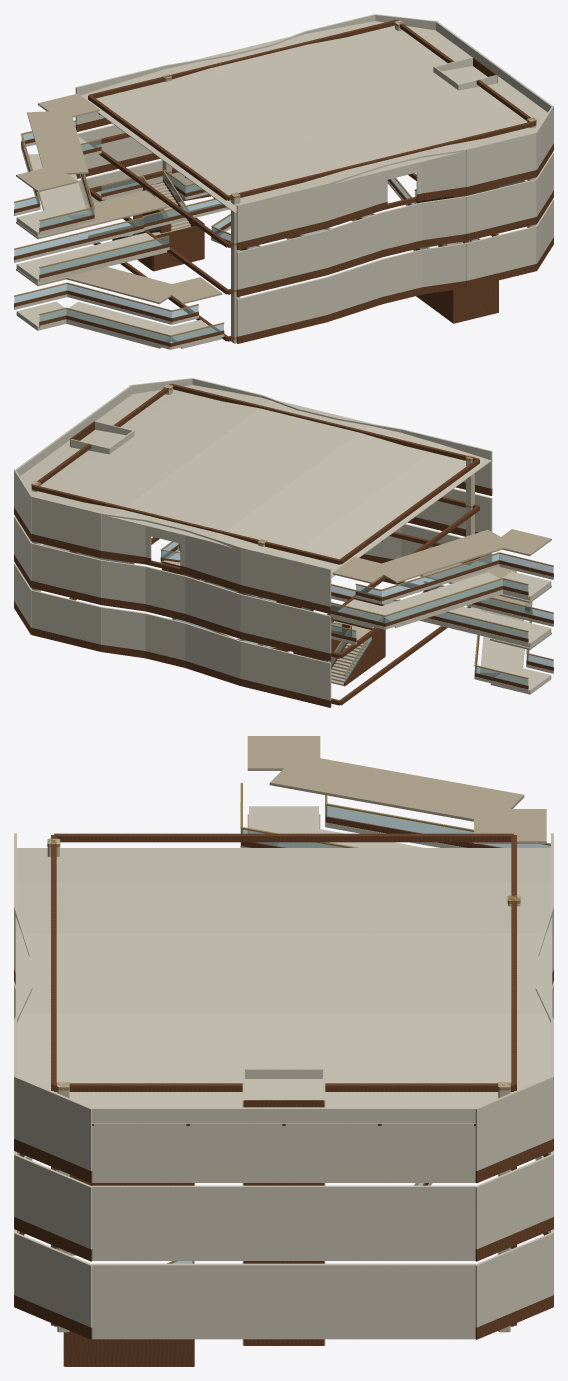
The model's file is AST-COM-003.glb.
3 views of the same model, one above another, from view 1: azimuth 30°, elevation 25°; view 2: azimuth 150°, elevation 25°; view 3: azimuth 270°, elevation 25° (orthographic). The views are drawn at different scales.
Visible parts, largest first — view 1: HC_TopCeiling_2, HC_TopCeiling_1, HC_TopCeiling_3, HC_TopCeiling_0, HC_ProfileWall_D16_1_0, HC_ProfileWall_D17_1_0, HC_ProfileWall_D15_1_0, HC_TopCeiling_4, HC_ArrivalCanopy_D17_1, HC_ProfileWall_D15_1_4, HC_ProfileWall_D16_1_4, HC_ProfileWall_D17_1_4 (+56 smaller); view 2: HC_TopCeiling_2, HC_TopCeiling_1, HC_TopCeiling_3, HC_TopCeiling_0, HC_ProfileWall_D15_-1_0, HC_ProfileWall_D16_-1_0, HC_ProfileWall_D17_-1_0, HC_TopCeiling_4, HC_ArrivalCanopy_D17_1, HC_ProfileWall_D17_-1_4, HC_ProfileWall_D15_-1_4, HC_ProfileWall_D16_-1_4 (+52 smaller); view 3: HC_TopCeiling_2, HC_TopCeiling_3, HC_RearWall_D15, HC_RearWall_D16, HC_RearWall_D17, HC_TopCeiling_1, HC_TopCeiling_0, HC_ArrivalCanopy_D17_1, HC_TopCeiling_4, HC_ProfileWall_D16_-1_5, HC_ProfileWall_D16_1_5, HC_ProfileWall_D15_-1_5 (+24 smaller).
Part boxes in pixels (x1=…): HC_TopCeiling_2: x1=196, y1=36, x2=456, y2=178; HC_TopCeiling_1: x1=126, y1=62, x2=356, y2=193; HC_TopCeiling_3: x1=297, y1=21, x2=528, y2=153; HC_TopCeiling_0: x1=80, y1=81, x2=280, y2=214; HC_ProfileWall_D16_1_0: x1=236, y1=230, x2=327, y2=289; HC_ProfileWall_D17_1_0: x1=236, y1=183, x2=327, y2=242; HC_ProfileWall_D15_1_0: x1=236, y1=277, x2=327, y2=336; HC_TopCeiling_4: x1=376, y1=21, x2=547, y2=133; HC_ArrivalCanopy_D17_1: x1=27, y1=111, x2=88, y2=174; HC_ProfileWall_D15_1_4: x1=466, y1=226, x2=536, y2=280; HC_ProfileWall_D16_1_4: x1=466, y1=179, x2=536, y2=233; HC_ProfileWall_D17_1_4: x1=466, y1=132, x2=536, y2=186; HC_TopCeiling_2: x1=111, y1=400, x2=371, y2=541; HC_TopCeiling_1: x1=211, y1=423, x2=440, y2=557; HC_TopCeiling_3: x1=39, y1=385, x2=270, y2=517; HC_TopCeiling_0: x1=287, y1=444, x2=491, y2=578; HC_ProfileWall_D15_-1_0: x1=240, y1=641, x2=331, y2=700; HC_ProfileWall_D16_-1_0: x1=240, y1=594, x2=331, y2=653; HC_ProfileWall_D17_-1_0: x1=240, y1=547, x2=331, y2=606; HC_TopCeiling_4: x1=20, y1=385, x2=191, y2=497; HC_ArrivalCanopy_D17_1: x1=371, y1=529, x2=511, y2=583; HC_ProfileWall_D17_-1_4: x1=31, y1=496, x2=101, y2=550; HC_ProfileWall_D15_-1_4: x1=31, y1=590, x2=101, y2=644; HC_ProfileWall_D16_-1_4: x1=31, y1=543, x2=101, y2=597; HC_TopCeiling_2: x1=15, y1=933, x2=552, y2=1013; HC_TopCeiling_3: x1=15, y1=1014, x2=552, y2=1086; HC_RearWall_D15: x1=92, y1=1263, x2=475, y2=1339; HC_RearWall_D16: x1=92, y1=1185, x2=475, y2=1260; HC_RearWall_D17: x1=92, y1=1107, x2=475, y2=1182; HC_TopCeiling_1: x1=15, y1=882, x2=552, y2=932; HC_TopCeiling_0: x1=17, y1=848, x2=550, y2=882; HC_ArrivalCanopy_D17_1: x1=269, y1=755, x2=524, y2=822; HC_TopCeiling_4: x1=42, y1=1086, x2=525, y2=1124; HC_ProfileWall_D16_-1_5: x1=475, y1=1154, x2=553, y2=1249; HC_ProfileWall_D16_1_5: x1=14, y1=1154, x2=92, y2=1249; HC_ProfileWall_D15_-1_5: x1=475, y1=1233, x2=553, y2=1327.
Size of the model in its own units: 47.06 by 17.76 by 28.16.
7 materials, 5 textured.
